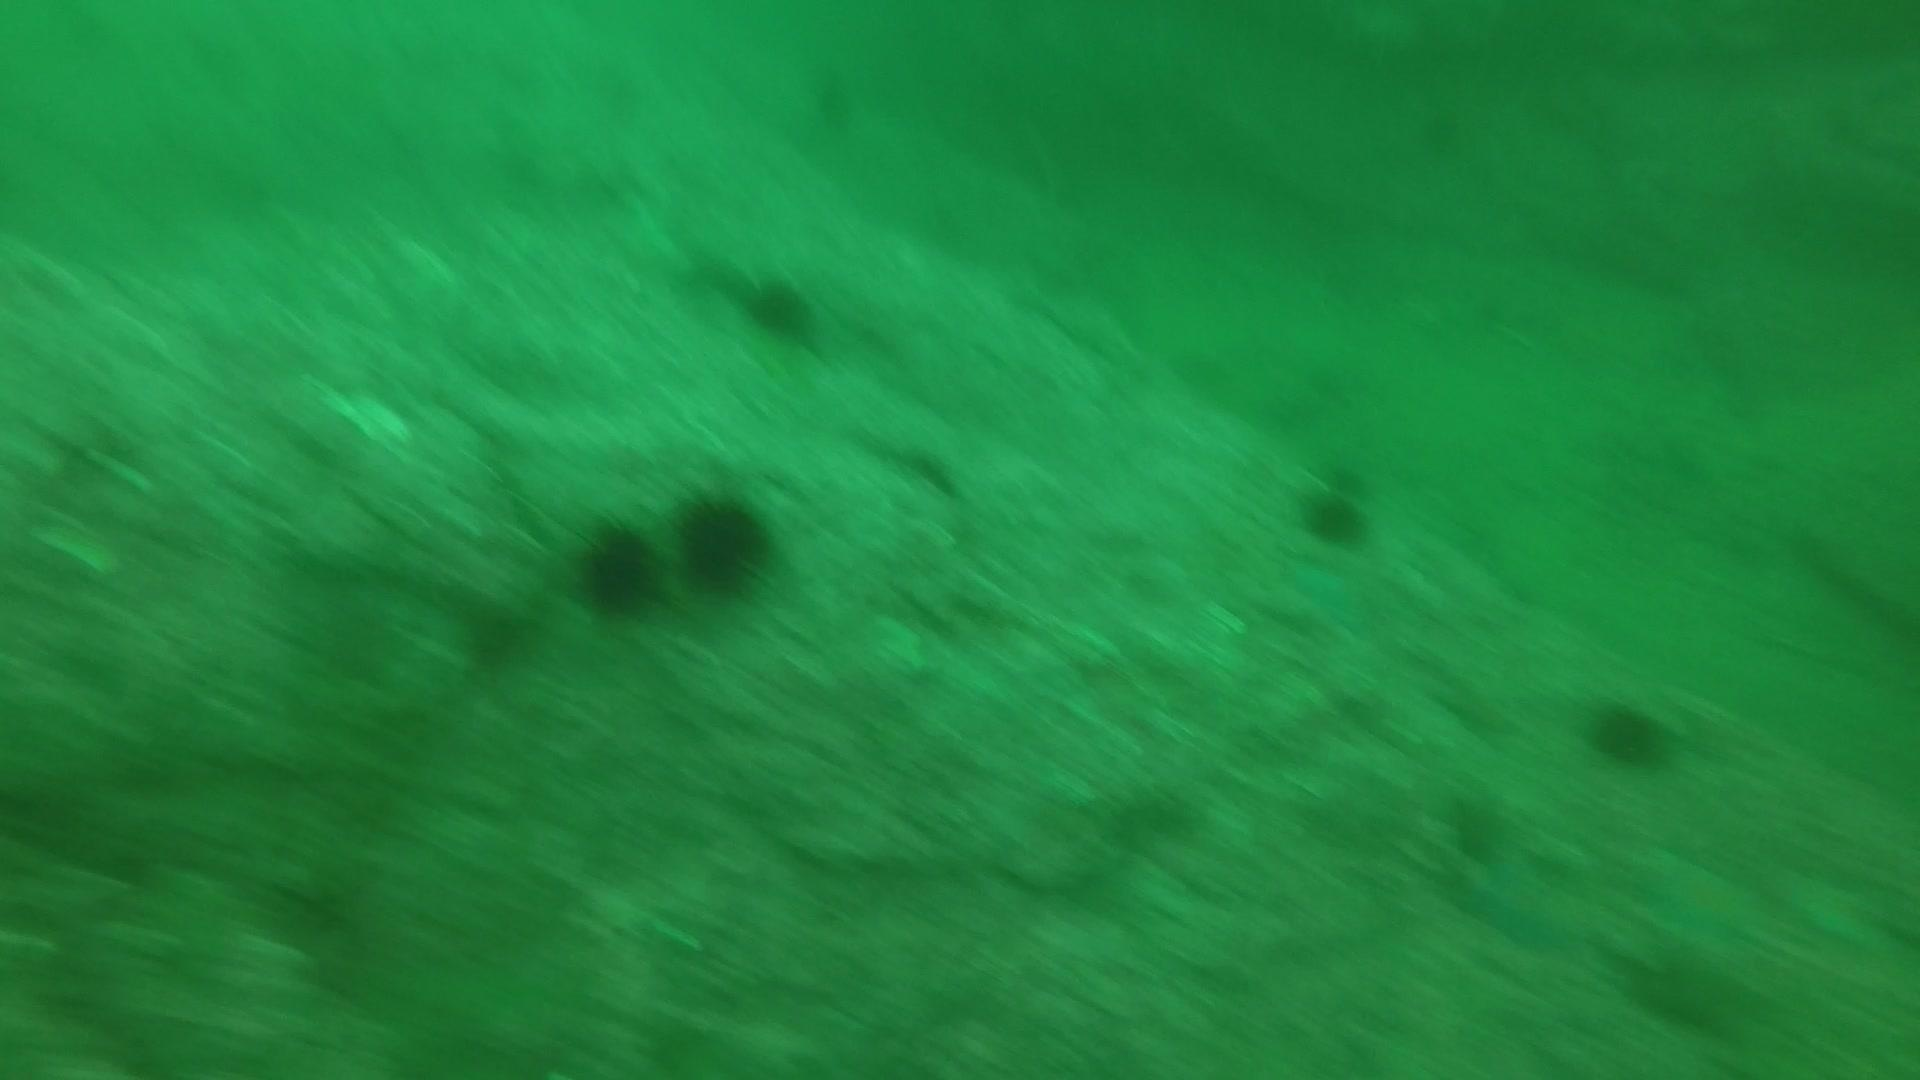echinus: (671, 487, 778, 597), (571, 516, 666, 620), (1581, 692, 1676, 773), (735, 268, 822, 347), (455, 595, 539, 673), (1294, 472, 1375, 550)
starfish: (1458, 847, 1596, 959), (1639, 849, 1768, 953), (1782, 866, 1898, 956)
